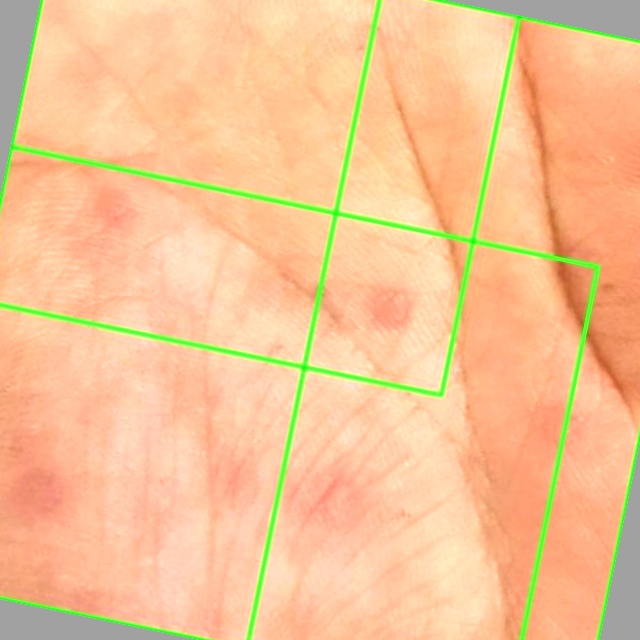Contact Dermatitis: (0, 146, 598, 639), (248, 0, 639, 639), (0, 0, 518, 395)
